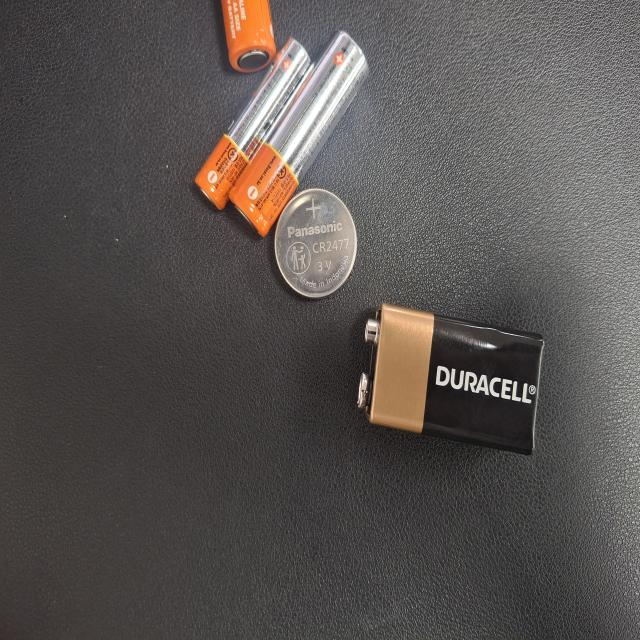9V: (225, 128, 343, 376)
AA: (24, 362, 178, 547), (0, 484, 56, 566)
AAA: (30, 440, 160, 593)
COIN: (142, 379, 225, 486)
